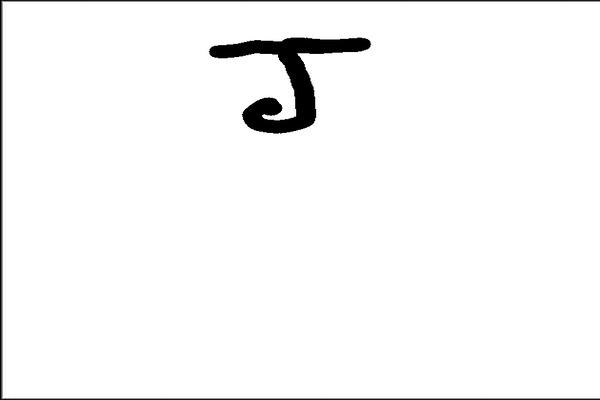J: (202, 30, 377, 138)
